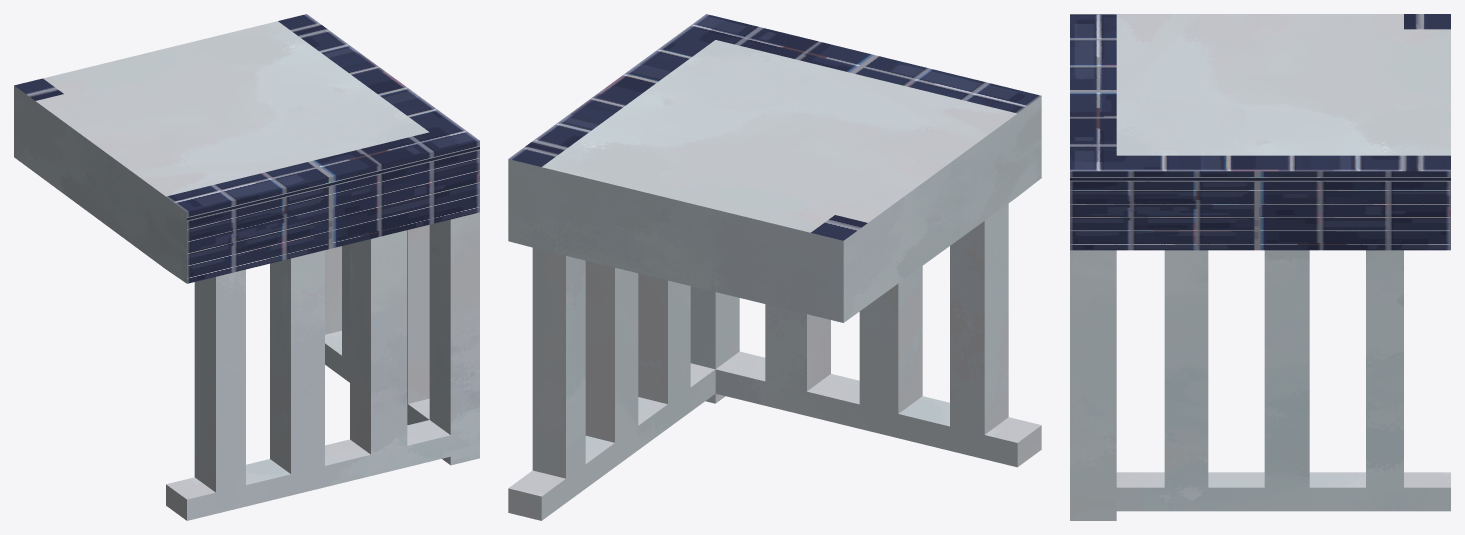
The model's file is CornerStair.fbx.
3 views of the same model, side by side, from view 1: azimuth 30°, elevation 25°; view 2: azimuth 150°, elevation 25°; view 3: azimuth 270°, elevation 25° (orthographic). The views are drawn at different scales.
Parts seen in each view (by area): view 1: CornerStair; view 2: CornerStair; view 3: CornerStair.
Part boxes in pixels (x1,y1,x2,y2): CornerStair: (14, 14, 479, 520); CornerStair: (508, 14, 1041, 520); CornerStair: (1070, 14, 1450, 520).
Bounding box in the file's own units: 429 × 445 × 439.
3 materials, 3 textured.
